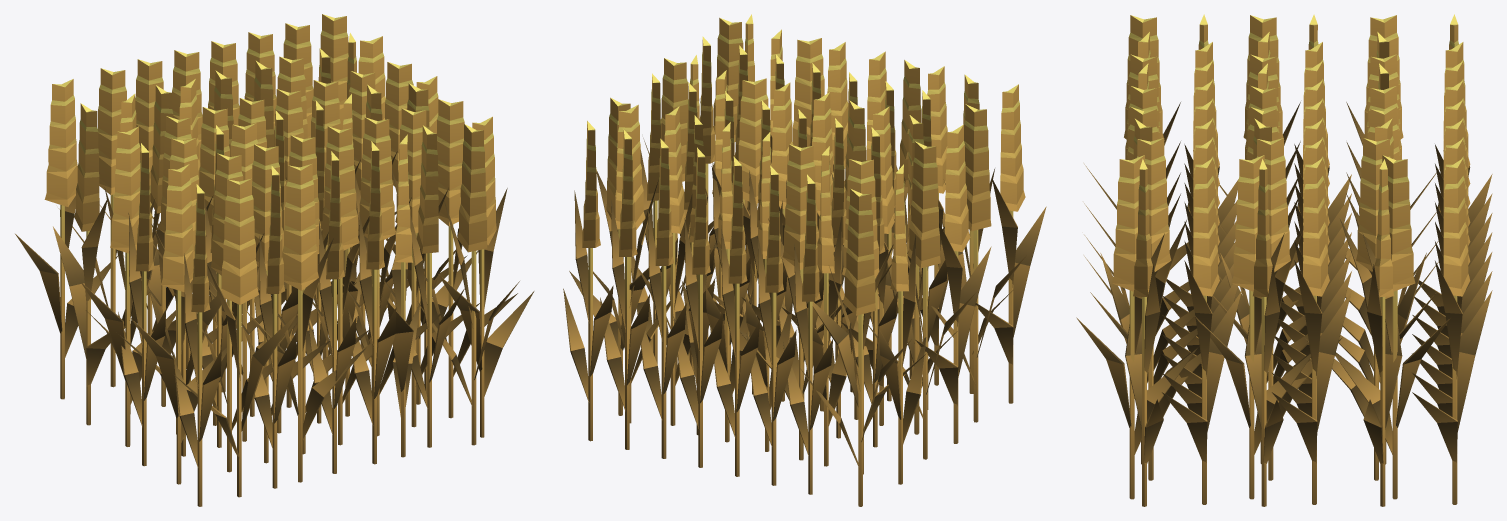
Rendered from wheat.fbx.
3 views of the same model, side by side, from view 1: azimuth 30°, elevation 25°; view 2: azimuth 150°, elevation 25°; view 3: azimuth 270°, elevation 25° (orthographic). The views are drawn at different scales.
Visible parts, largest first — view 1: Wheat_ripe; view 2: Wheat_ripe; view 3: Wheat_ripe.
Part boxes in pixels (x1,y1,x2,y2): Wheat_ripe: (15, 14, 534, 506); Wheat_ripe: (563, 14, 1046, 506); Wheat_ripe: (1076, 14, 1492, 506).
Size of the model in its own units: 13.94 by 11.01 by 12.19.
1 material, 1 textured.
